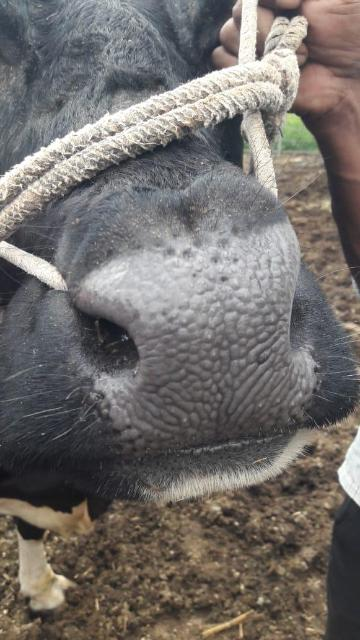Muzzle: (134, 270, 294, 422)
